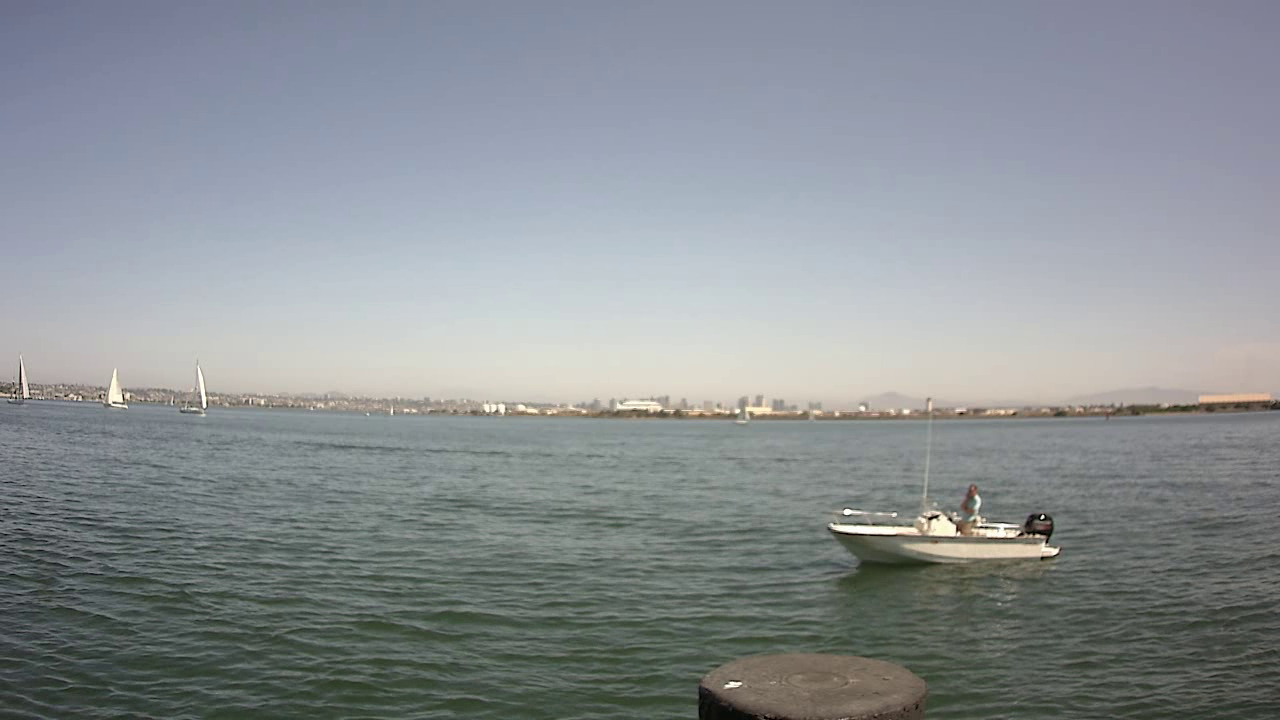target: (824, 474, 1067, 569)
